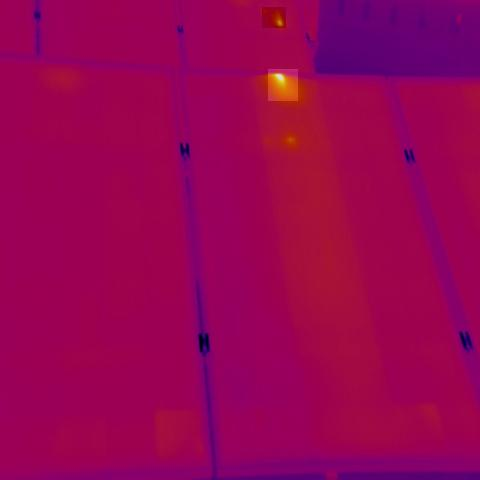fault: (268, 70, 298, 102), (262, 7, 286, 28)
